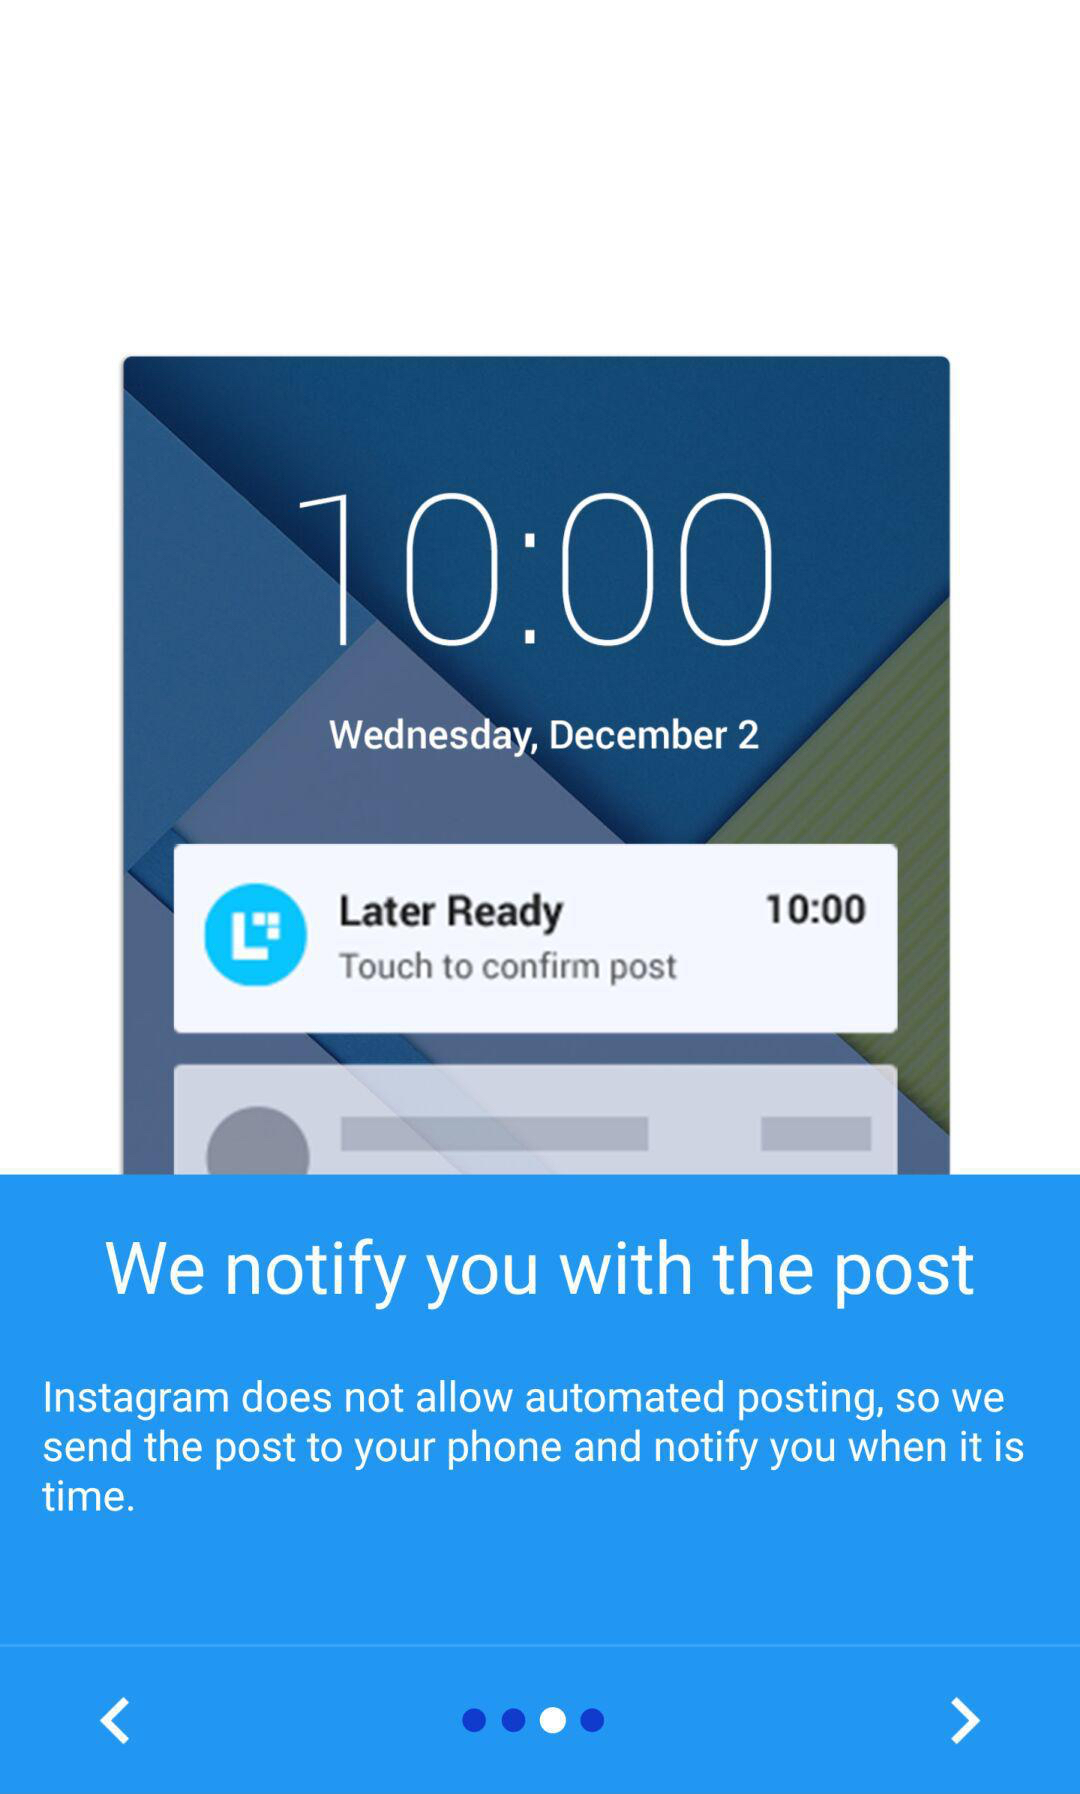Icon: (99, 1697, 131, 1745), (951, 1697, 981, 1745)
Image: (124, 356, 951, 1175)
PageIndicator: (461, 1706, 606, 1735)
Text: (42, 1380, 1024, 1513), (106, 1237, 975, 1311)
